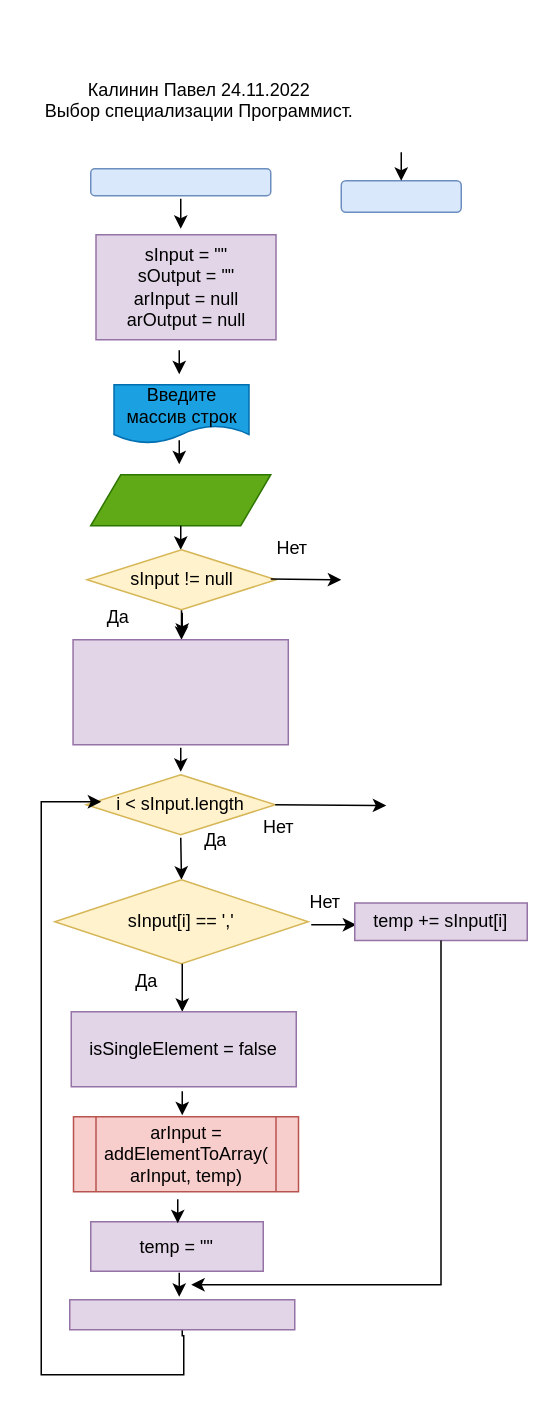
Image size: 554x1413. Some labels were removed from this diagram. The centre of each missing label's shape, as x and y in pixels:
i = i + 1: the point at 181,1314
sInput: the point at 180,499
temp = "" isSingleElement = true i = 0: the point at 180,691
конец: the point at 400,195
начало: the point at 180,181
